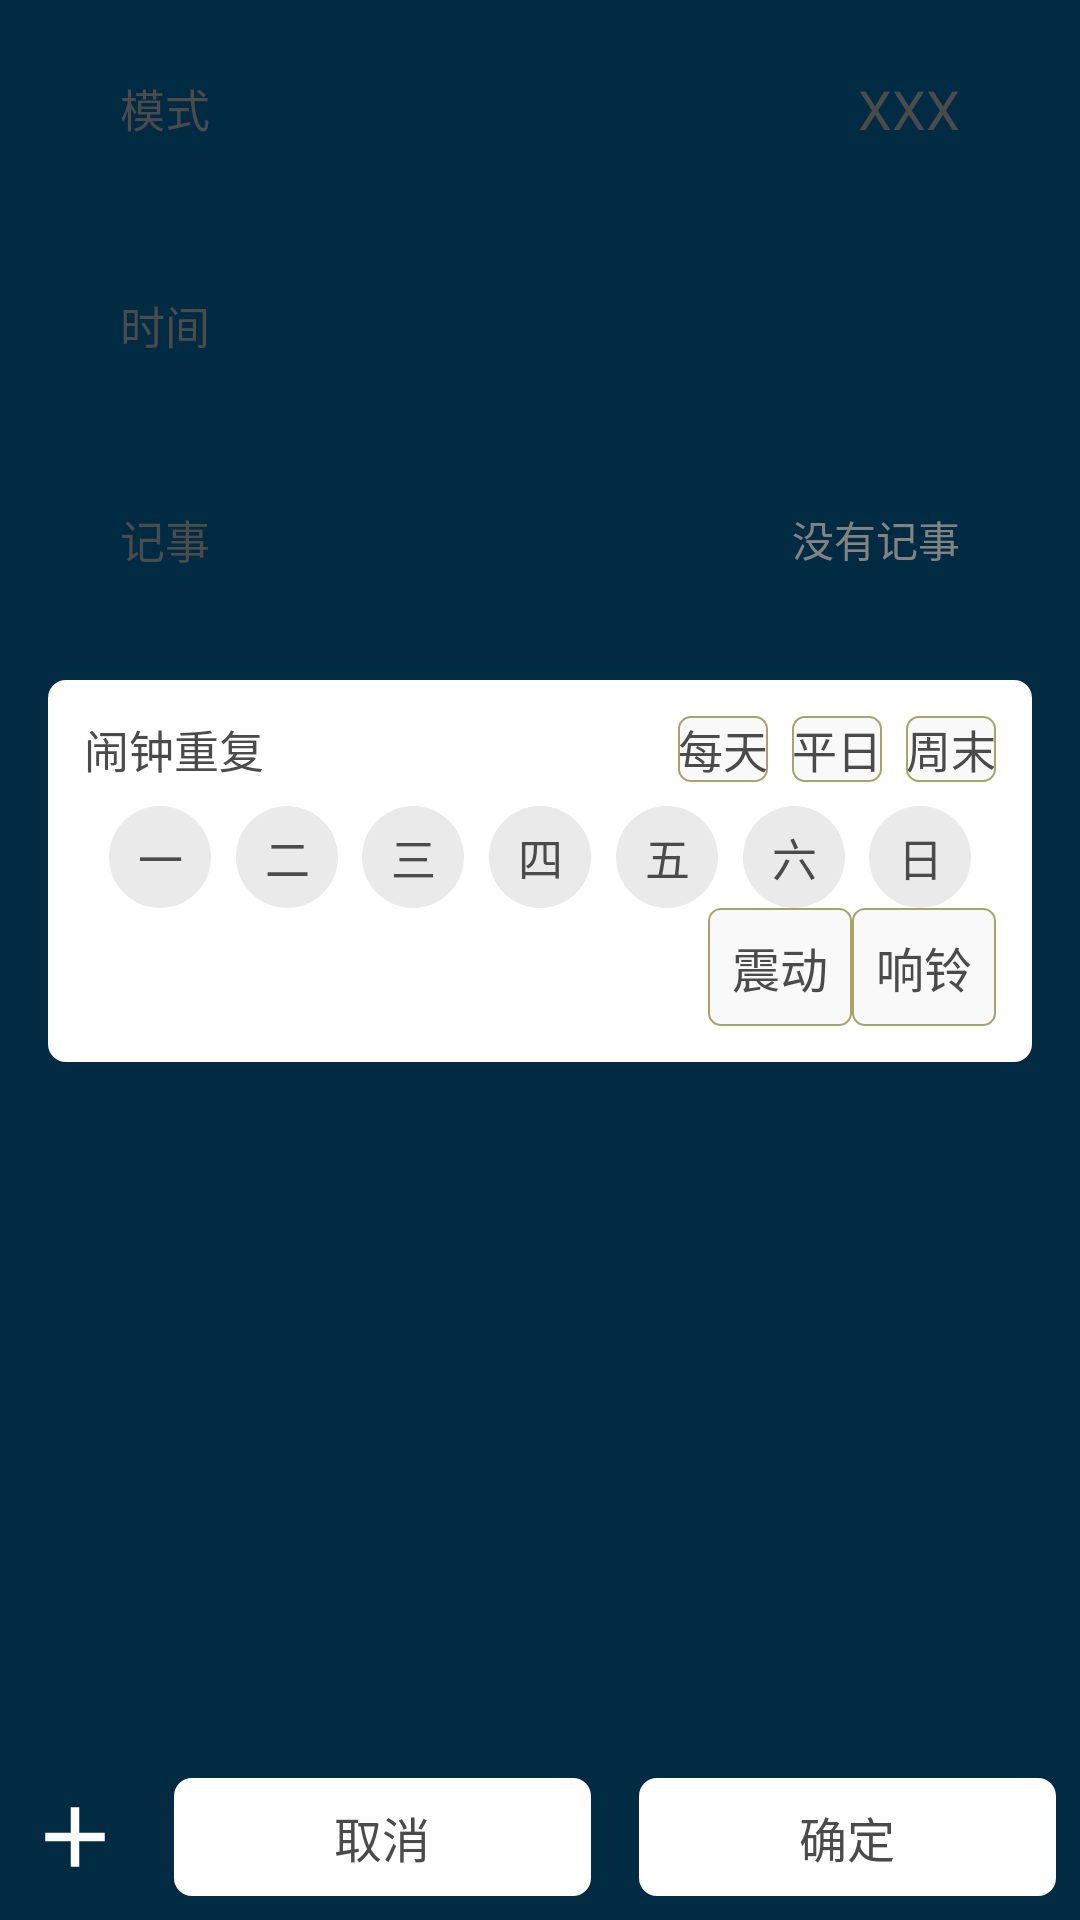

Icon bounding boxes for this 1080px x 1920px phone screenshot, format {"left": x1, "top": y1, "right": x2, "bottom": y2}:
add: {"left": 45, "top": 1807, "right": 105, "bottom": 1867}
